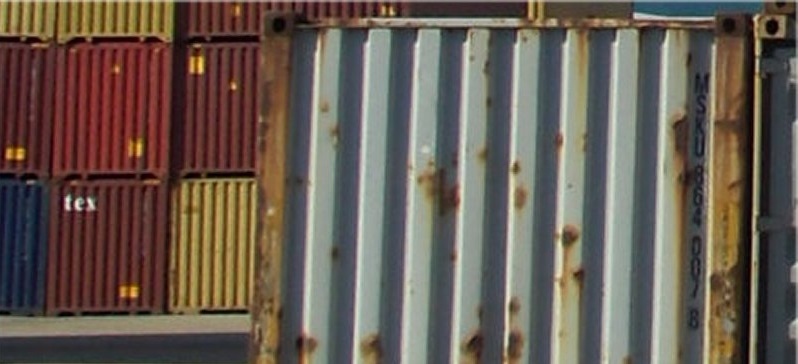container_no_door: (262, 11, 750, 363), (54, 40, 171, 179), (49, 181, 166, 314), (165, 175, 260, 322), (173, 38, 268, 177), (1, 39, 53, 179), (1, 176, 53, 316)
